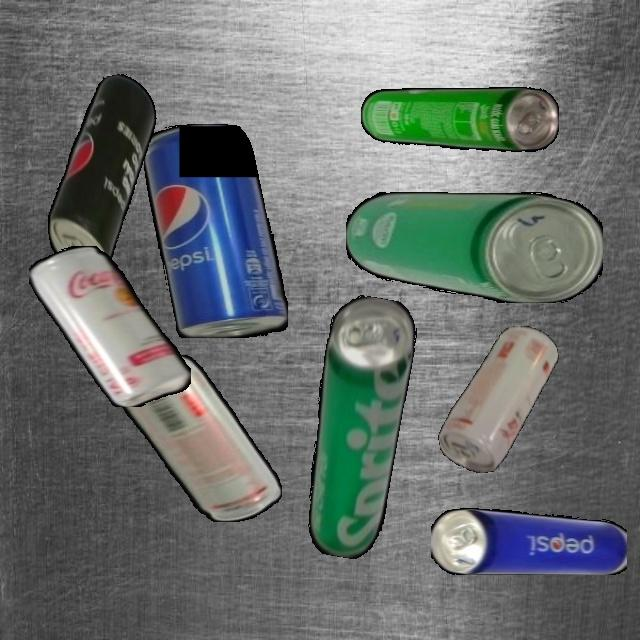debris: (291, 291, 422, 563), (24, 70, 181, 278), (144, 123, 288, 338), (345, 192, 603, 303), (112, 355, 282, 522), (29, 245, 191, 407), (422, 320, 576, 479), (431, 507, 627, 575), (360, 87, 559, 152)
